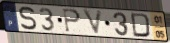3: (113, 11, 130, 37), (39, 7, 56, 32)
D: (130, 13, 152, 39)
P: (62, 8, 82, 34)
S: (18, 5, 38, 31)
V: (81, 8, 104, 38)
